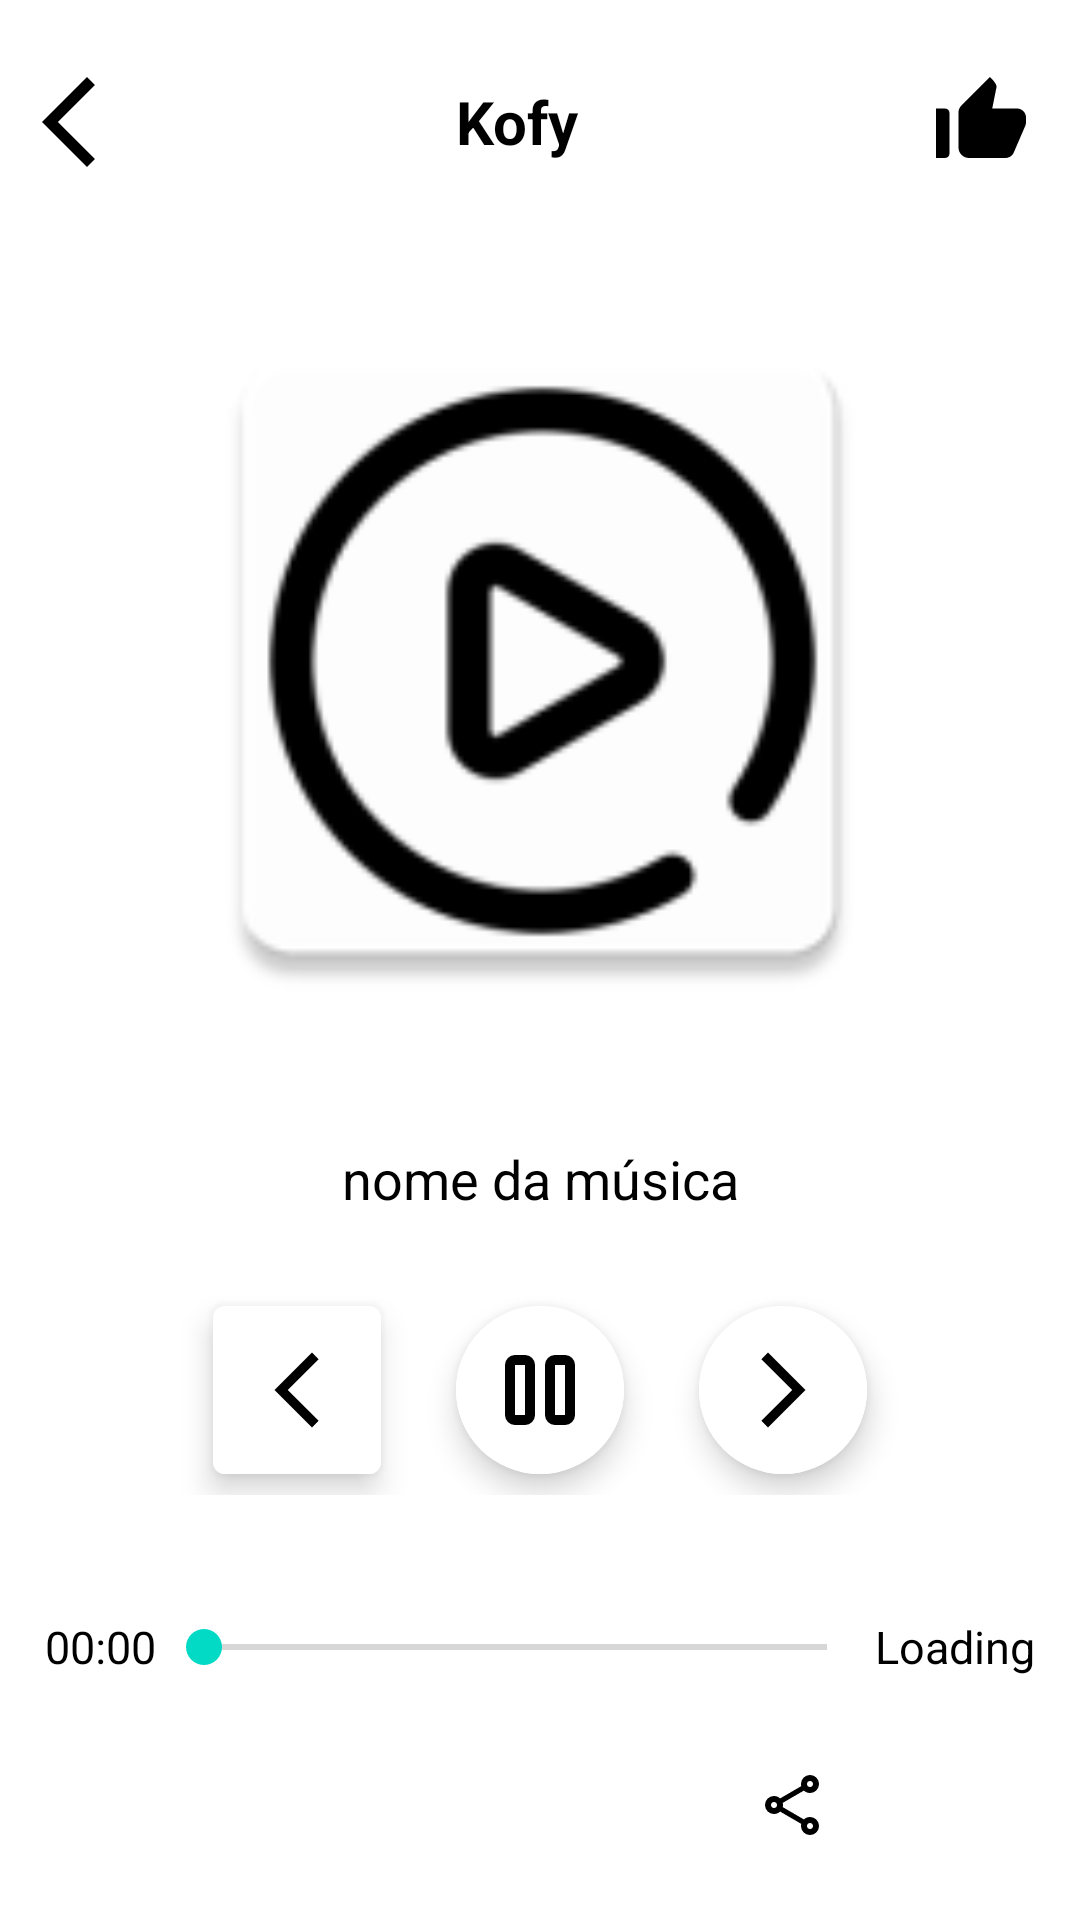

Screen size 1080w x 1920h. Icon name, then its box in pixels as (x1, y1, x2, y2):
Compartilhar: (765, 1775, 819, 1835)
Curtidas: (936, 77, 1026, 158)
next: (702, 1352, 867, 1474)
pause: (456, 1355, 624, 1425)
previous: (213, 1306, 381, 1474)
Voltar: (42, 77, 95, 167)
